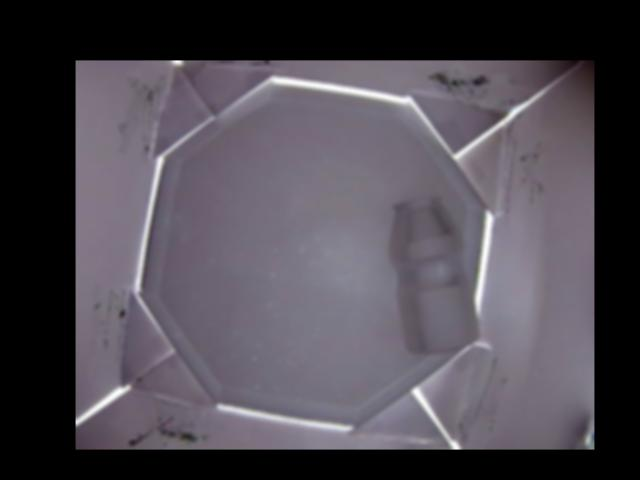Bottle: (390, 194, 481, 353)
